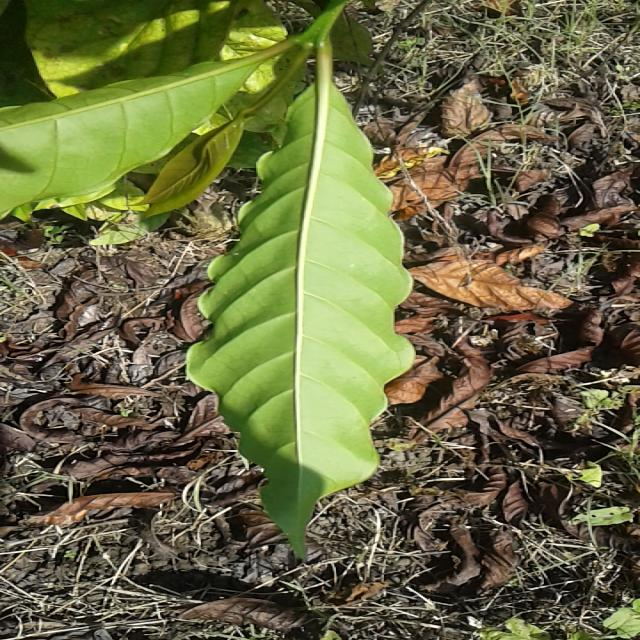Sanas: (185, 76, 416, 560)
